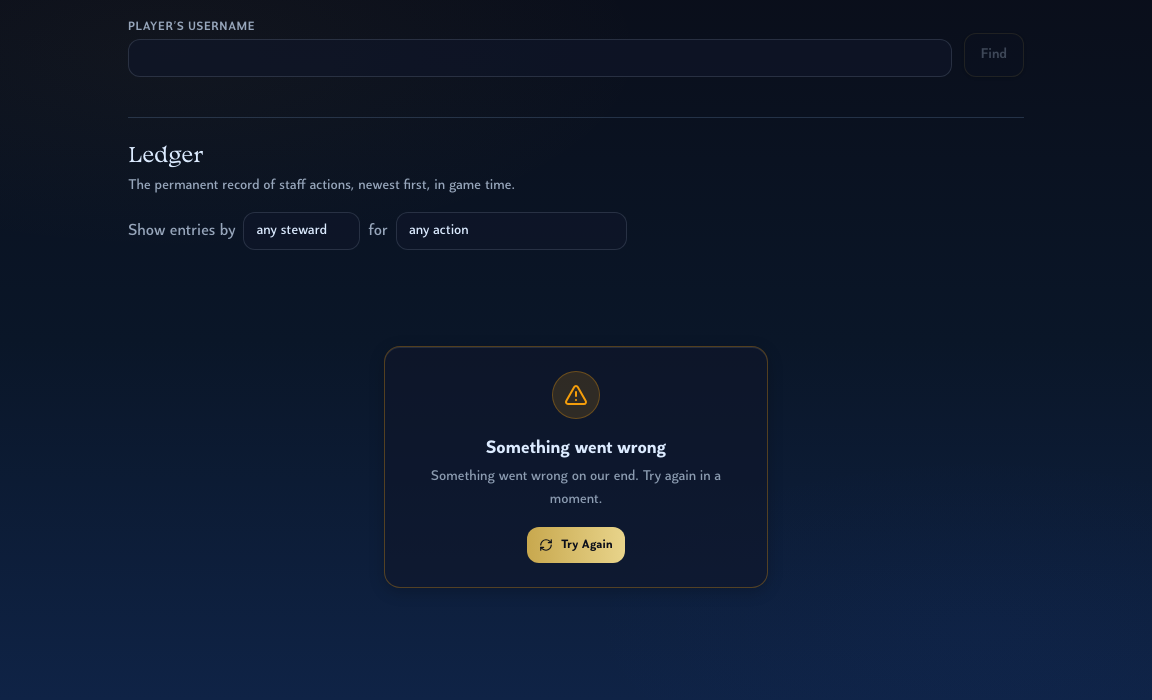
Test: The Steward's Office › ledger: error shows retry wired to refetch, never a false empty
(page scrolled)
Step 1. Click the button "Try Again" → x=576, y=545, box [527,527,625,563]
(page scrolled)
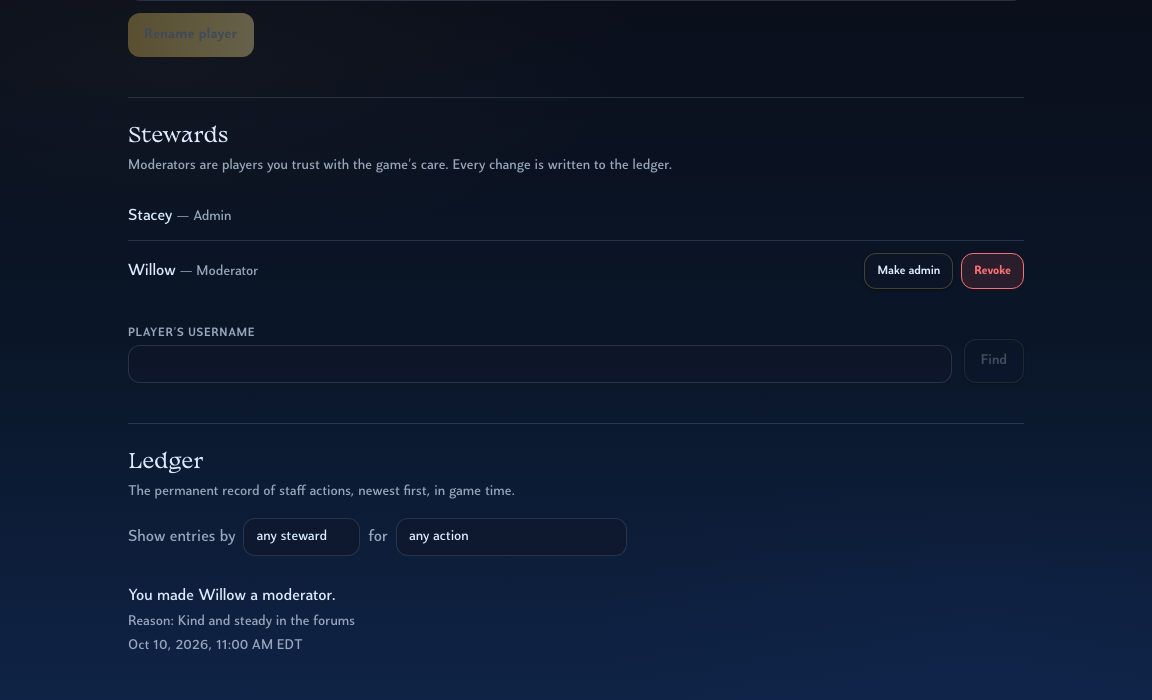
Expected: the text "Reason: Kind and steady in the forums" is shown, [128,614,355,629]
